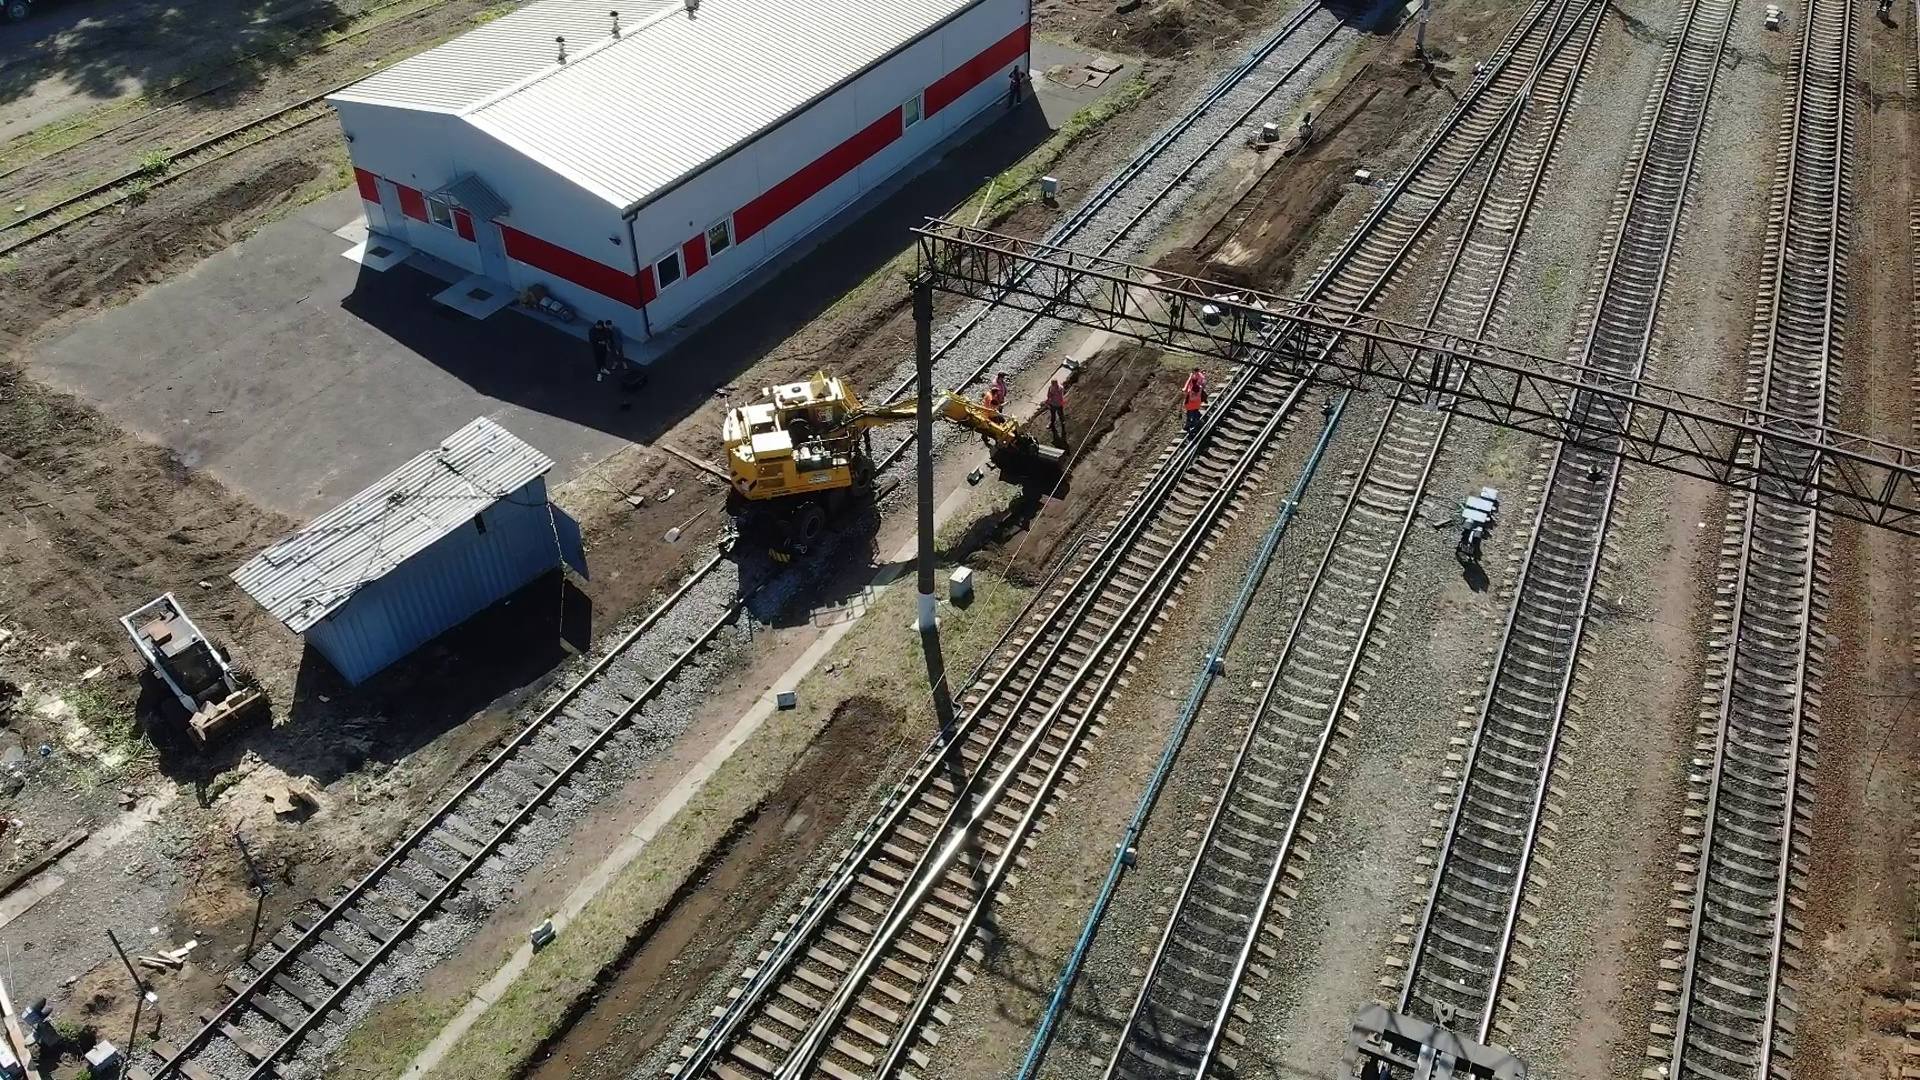kjtv: (723, 371, 914, 537)
